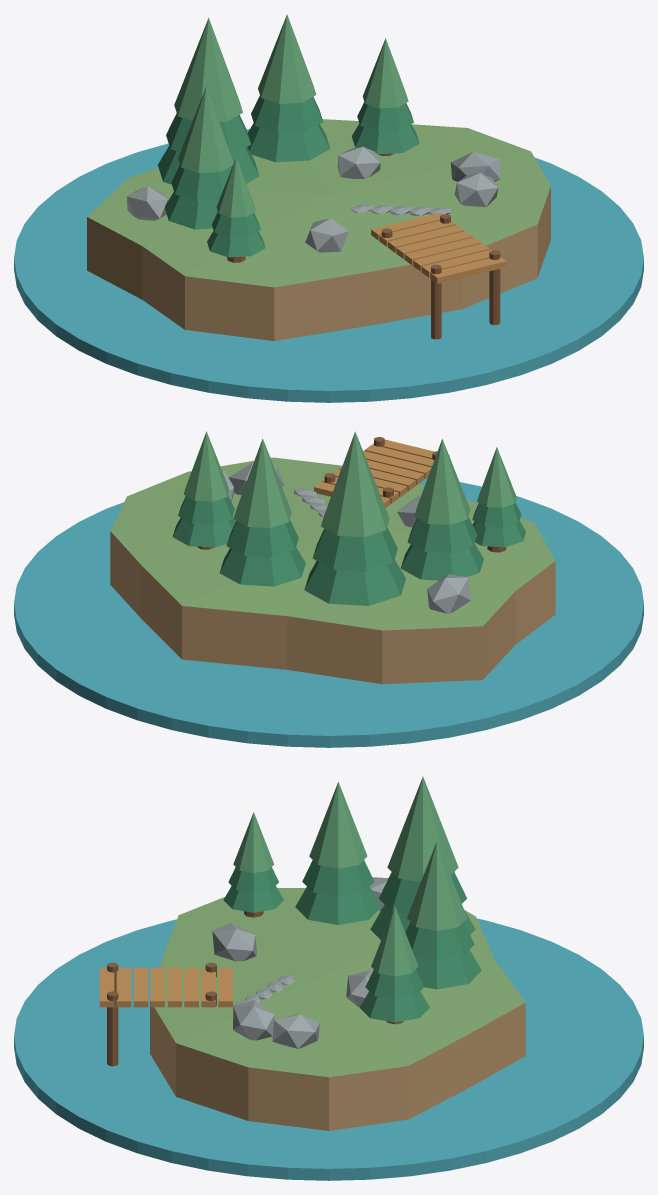
File: diorama.glb
The picture shows the model from 3 angles, top to bottom: view 1: azimuth 30°, elevation 25°; view 2: azimuth 150°, elevation 25°; view 3: azimuth 270°, elevation 25°; orthographic projection.
Parts seen in each view (by area): view 1: Water_Platform, Island_Grass_Cliffs, Tree_01_Crown_2, Tree_02_Crown_2, Tree_00_Crown_2, Tree_02_Crown_0, Tree_02_Crown_1, Tree_03_Crown_2, Tree_00_Crown_1, Tree_03_Crown_0, Tree_00_Crown_0, Tree_01_Crown_1 (+20 smaller); view 2: Water_Platform, Island_Grass_Cliffs, Tree_01_Crown_2, Tree_01_Crown_0, Tree_02_Crown_2, Tree_01_Crown_1, Tree_00_Crown_2, Tree_02_Crown_0, Tree_00_Crown_0, Tree_02_Crown_1, Tree_00_Crown_1, Tree_03_Crown_2 (+10 smaller); view 3: Water_Platform, Island_Grass_Cliffs, Tree_01_Crown_2, Tree_02_Crown_2, Tree_00_Crown_2, Tree_00_Crown_0, Tree_00_Crown_1, Tree_02_Crown_1, Tree_03_Crown_2, Tree_02_Crown_0, Tree_03_Crown_0, Tree_04_Crown_2 (+16 smaller).
Boxes of the visible parts, bbox=[...] form: Water_Platform: bbox=[14, 129, 643, 402]; Island_Grass_Cliffs: bbox=[87, 119, 550, 341]; Tree_01_Crown_2: bbox=[174, 18, 242, 122]; Tree_02_Crown_2: bbox=[258, 14, 316, 103]; Tree_00_Crown_2: bbox=[178, 87, 233, 173]; Tree_02_Crown_0: bbox=[247, 123, 330, 162]; Tree_02_Crown_1: bbox=[251, 96, 323, 133]; Tree_03_Crown_2: bbox=[362, 38, 408, 108]; Tree_00_Crown_1: bbox=[171, 165, 231, 201]; Tree_03_Crown_0: bbox=[351, 123, 419, 154]; Tree_00_Crown_0: bbox=[165, 192, 218, 229]; Tree_01_Crown_1: bbox=[166, 113, 251, 154]; Water_Platform: bbox=[14, 477, 643, 747]; Island_Grass_Cliffs: bbox=[110, 457, 555, 684]; Tree_01_Crown_2: bbox=[321, 431, 389, 537]; Tree_01_Crown_0: bbox=[304, 560, 405, 605]; Tree_02_Crown_2: bbox=[233, 439, 291, 527]; Tree_01_Crown_1: bbox=[312, 527, 397, 571]; Tree_00_Crown_2: bbox=[414, 439, 470, 524]; Tree_02_Crown_0: bbox=[219, 547, 305, 586]; Tree_00_Crown_0: bbox=[400, 543, 483, 580]; Tree_02_Crown_1: bbox=[226, 519, 298, 557]; Tree_00_Crown_1: bbox=[407, 517, 477, 553]; Tree_03_Crown_2: bbox=[183, 431, 229, 501]; Water_Platform: bbox=[14, 918, 643, 1180]; Island_Grass_Cliffs: bbox=[150, 888, 525, 1130]; Tree_01_Crown_2: bbox=[387, 776, 458, 882]; Tree_02_Crown_2: bbox=[407, 841, 467, 930]; Tree_00_Crown_2: bbox=[309, 782, 367, 868]; Tree_00_Crown_0: bbox=[295, 886, 381, 924]; Tree_00_Crown_1: bbox=[302, 860, 374, 896]; Tree_02_Crown_1: bbox=[405, 922, 474, 959]; Tree_03_Crown_2: bbox=[371, 906, 418, 976]; Tree_02_Crown_0: bbox=[415, 949, 481, 989]; Tree_03_Crown_0: bbox=[359, 991, 429, 1022]; Tree_04_Crown_2: bbox=[233, 812, 274, 872].
Size of the model in its own units: 6.7 by 2.77 by 6.7.
